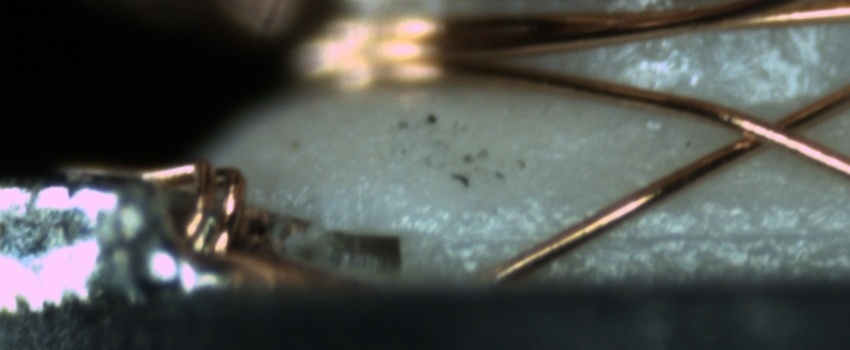CL: (719, 100, 828, 159)
DL: (461, 203, 849, 267)
TE: (126, 149, 255, 266)
